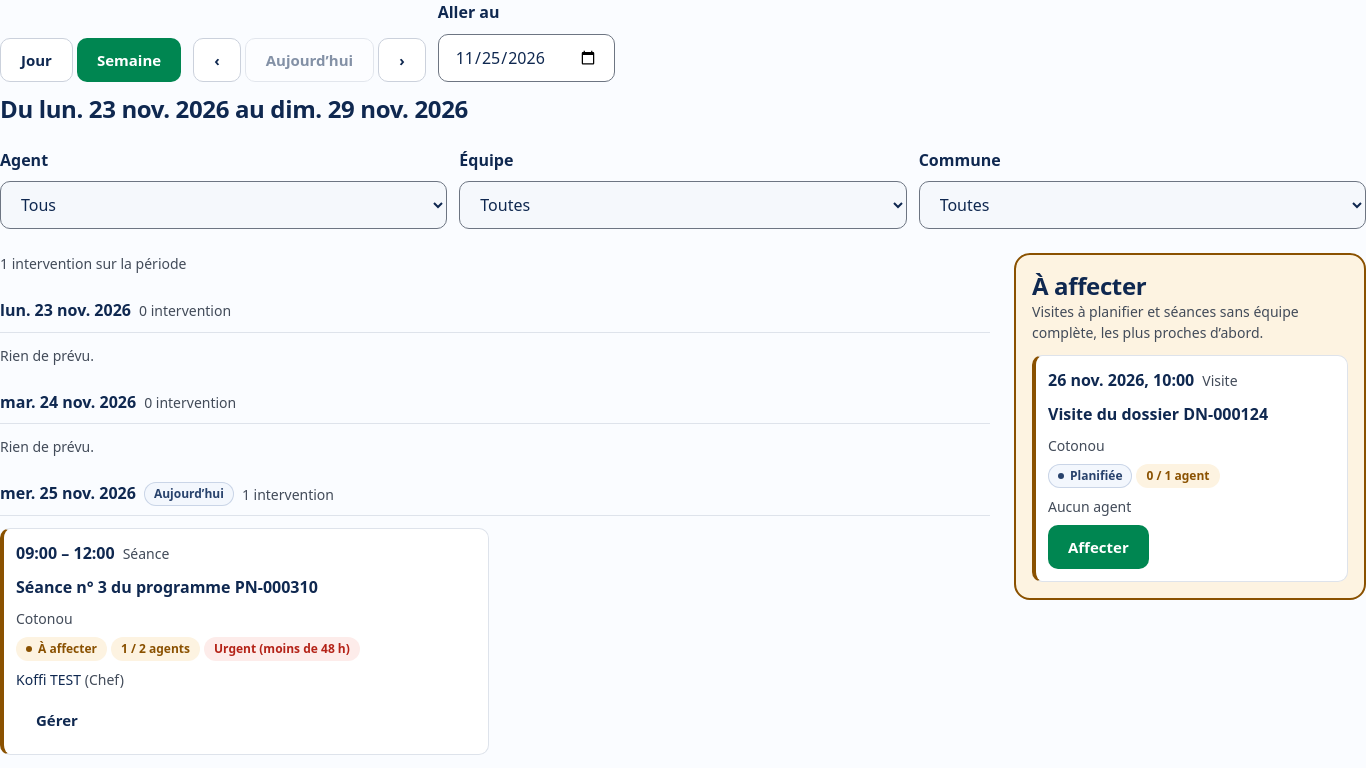
Scenario: planning › erreurs métier : contrôle bloquant, intervention commencée
Click the button with aria-label "Gérer : Séance n° 3".
click(57, 720)  # box top-left (16, 698), bottom-right (98, 742)
(page scrolled)
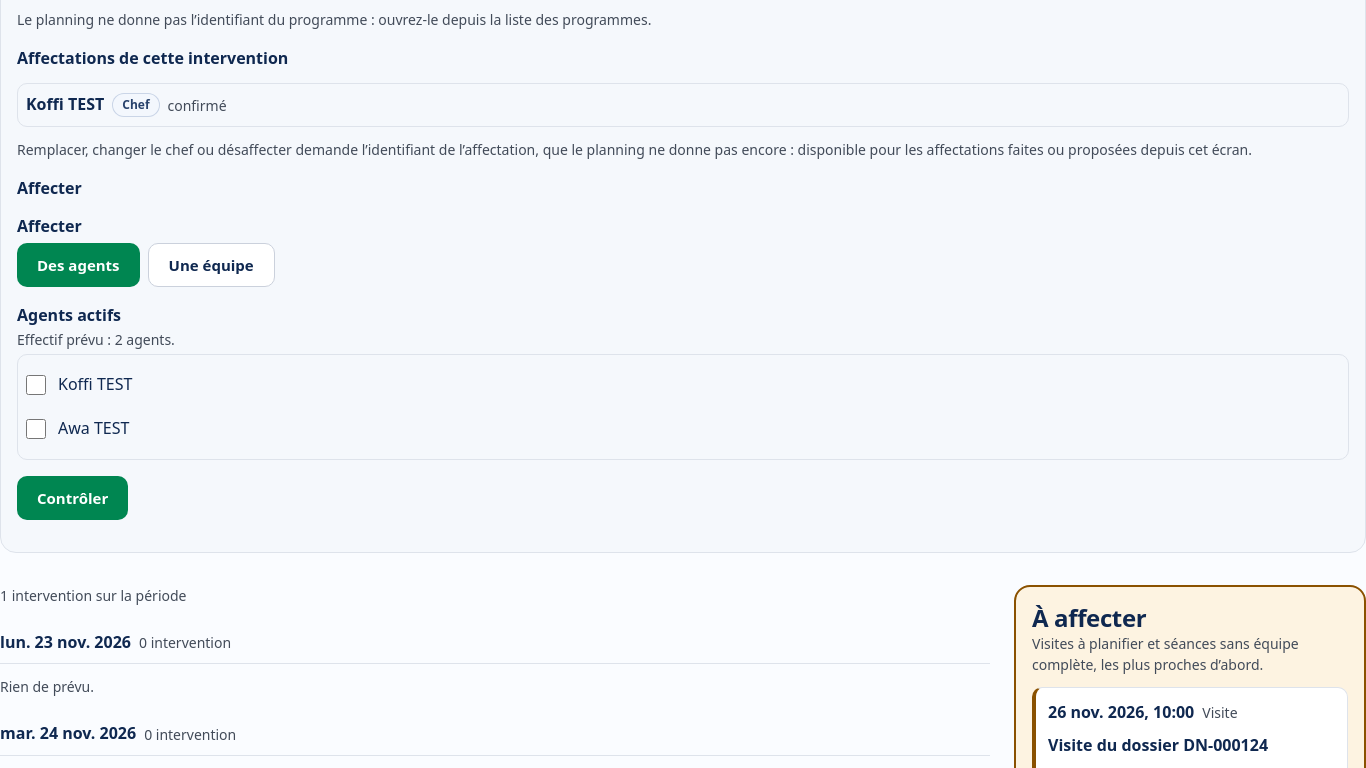
Click the checkbox labelled "Awa TEST".
click(36, 429)  # box top-left (26, 419), bottom-right (46, 439)
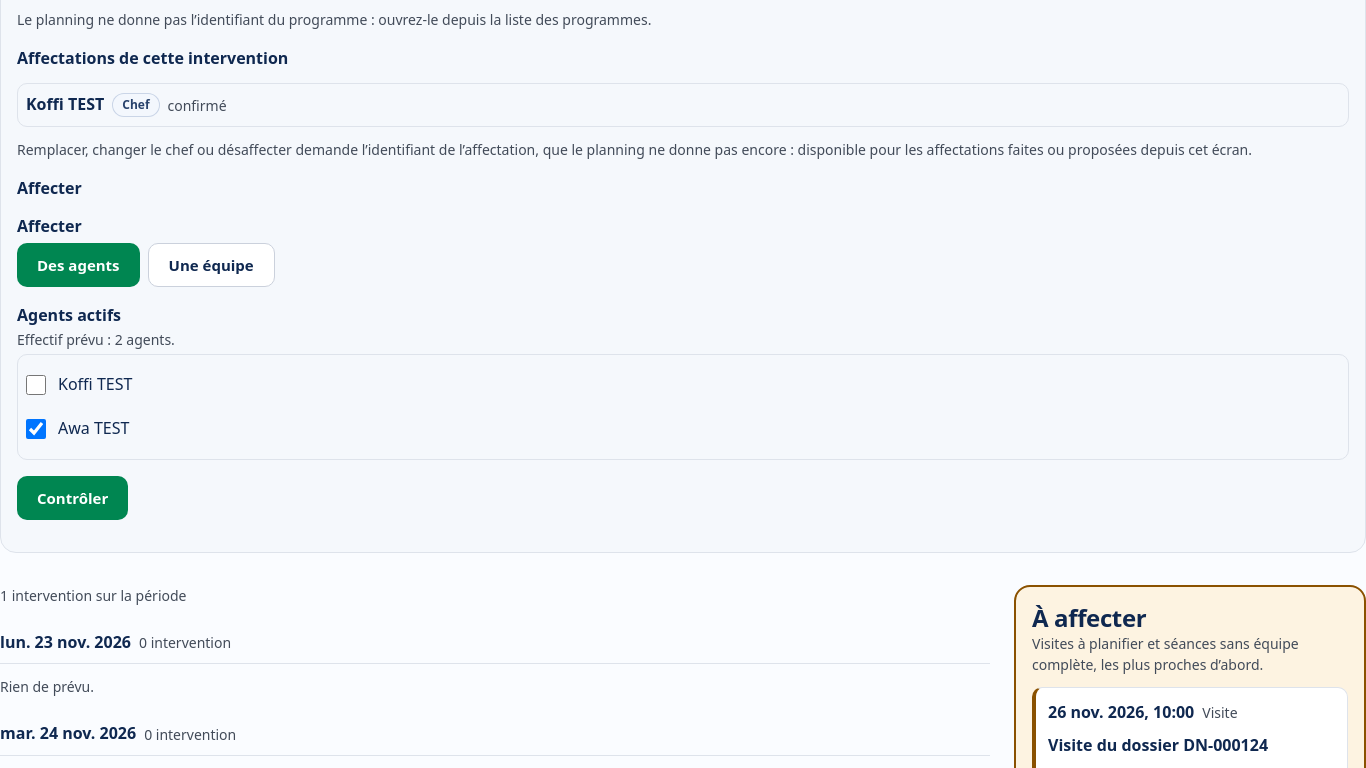
Click the button "Contrôler".
click(73, 498)  # box top-left (17, 476), bottom-right (128, 520)
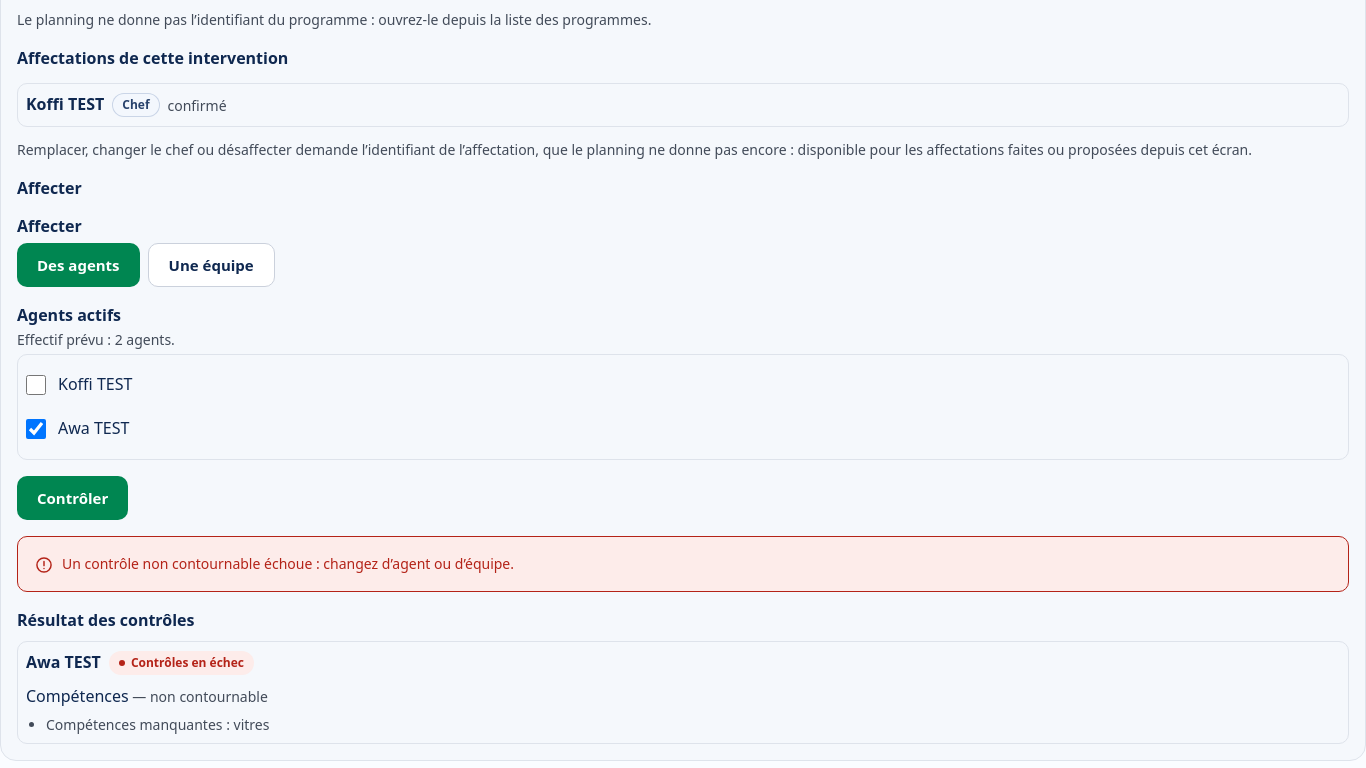
Check: the text "Un contrôle non contournable échoue : changez d’agent ou d’équipe." is shown, box top-left (62, 553), bottom-right (514, 574)
Check: the list item "Compétences manquantes : vitres" is shown, box top-left (46, 714), bottom-right (269, 734)
Click the button "Contrôler".
click(73, 498)  # box top-left (17, 476), bottom-right (128, 520)
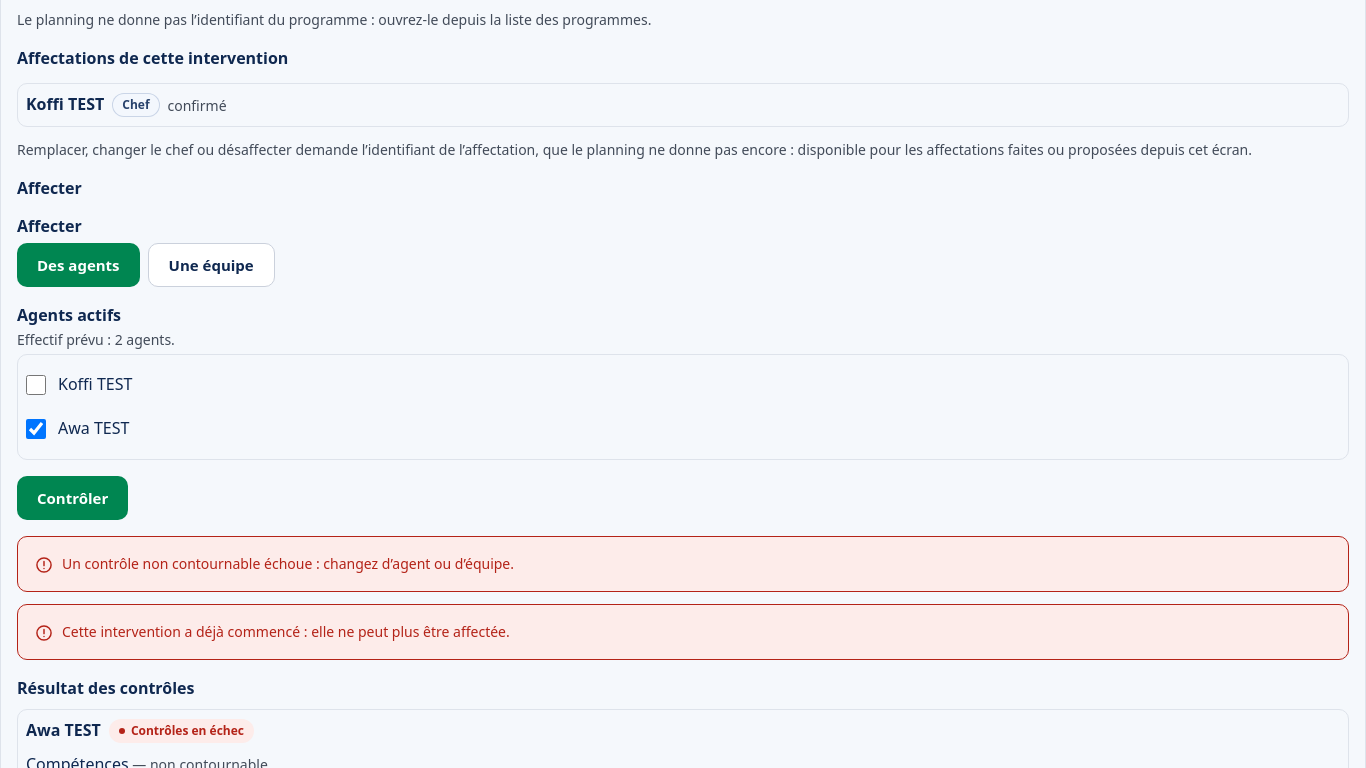
Check: the text "Cette intervention a déjà commencé : elle ne peut plus être affectée." is shown, box top-left (62, 621), bottom-right (510, 642)
